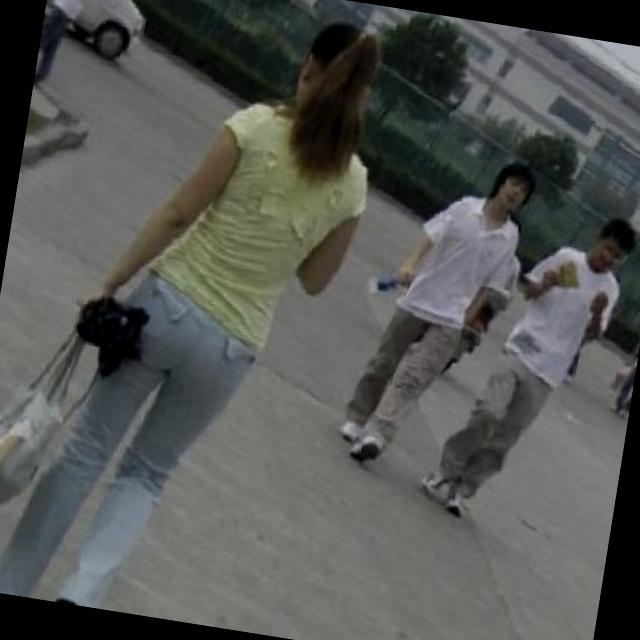Person: (0, 0, 405, 640), (329, 123, 542, 514), (418, 186, 640, 543)
